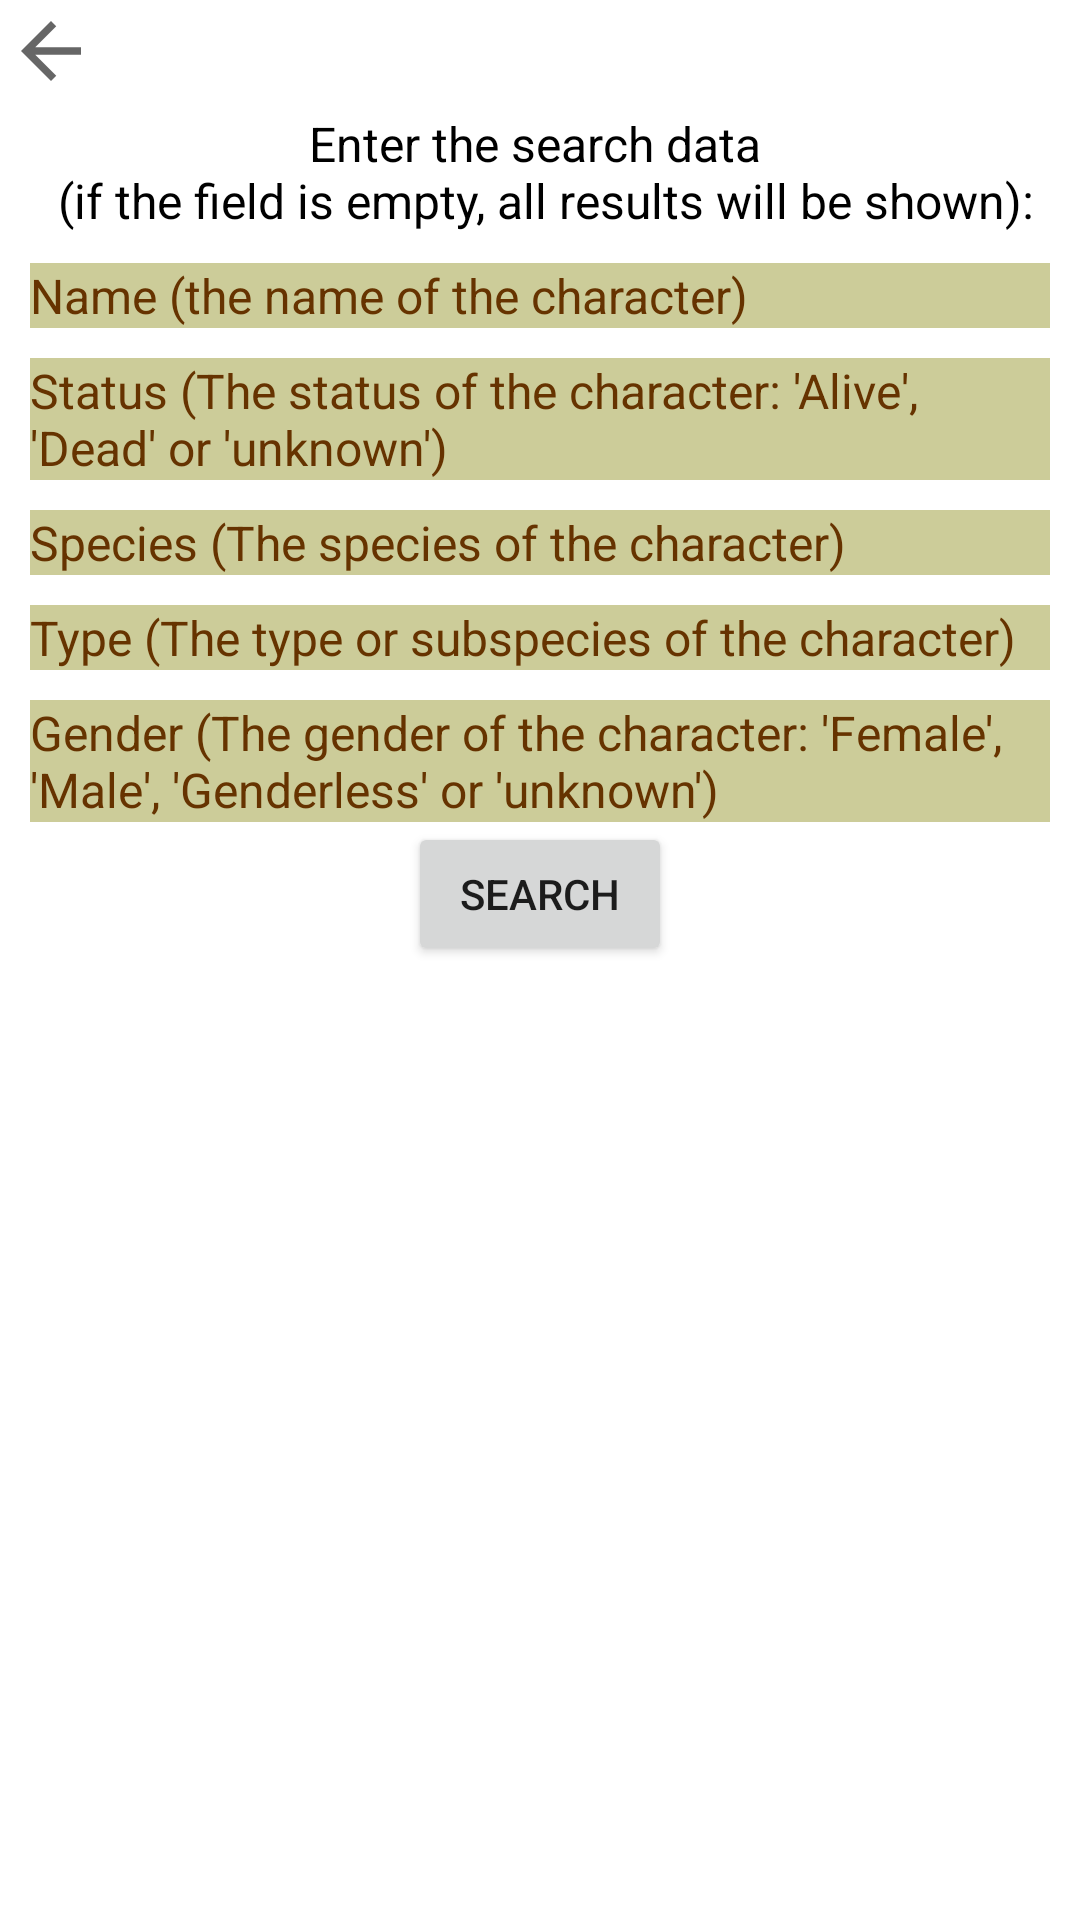

Icon bounding boxes for this 1080w x 1920h phone screenshot, format bbox=(x1, y1, x2, y2):
Button Back: bbox=(21, 21, 81, 81)
